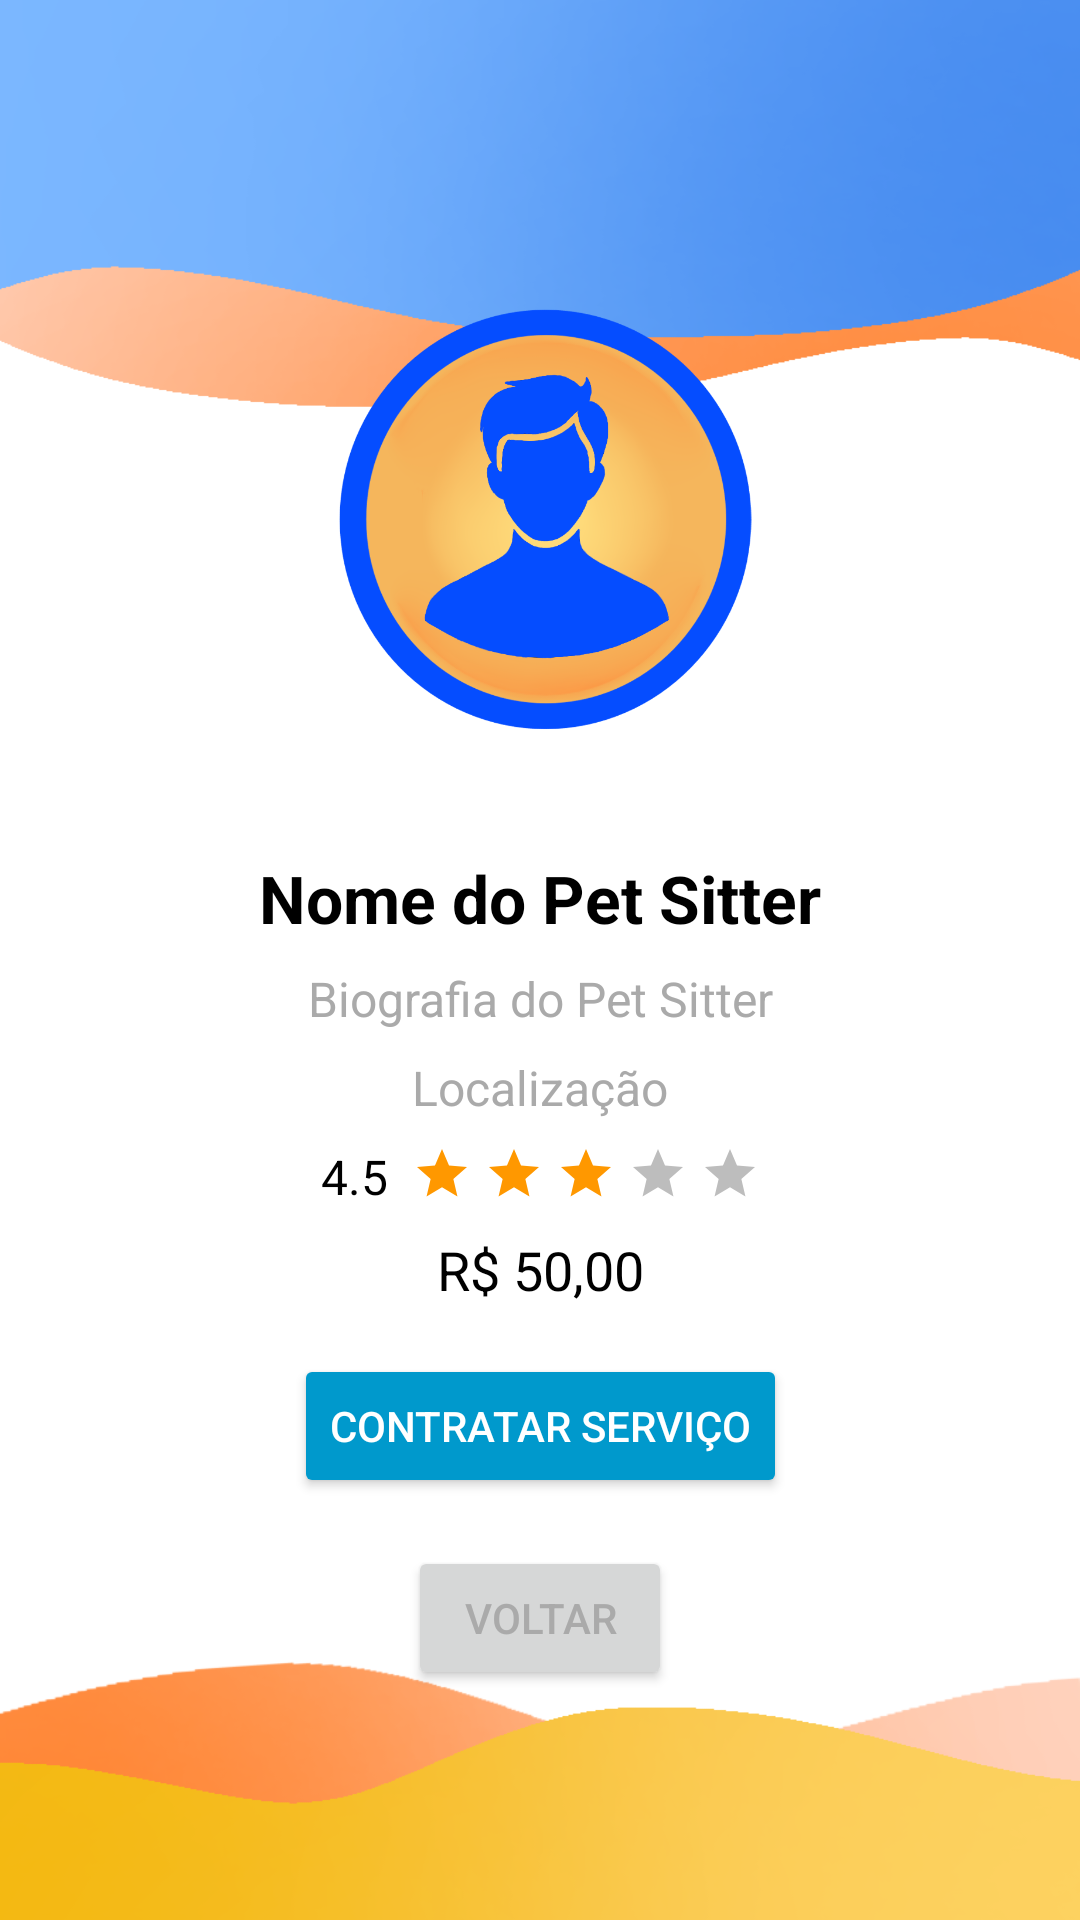

Icon click points for this 1080w x 1920h phone screenshot, format [x,y]:
star: [442,1173], [514,1173], [586,1173]
star empty: [658,1173], [730,1173]
